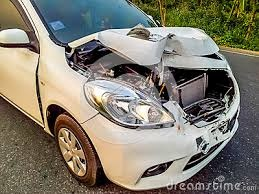Smashed: (65, 26, 242, 143)
